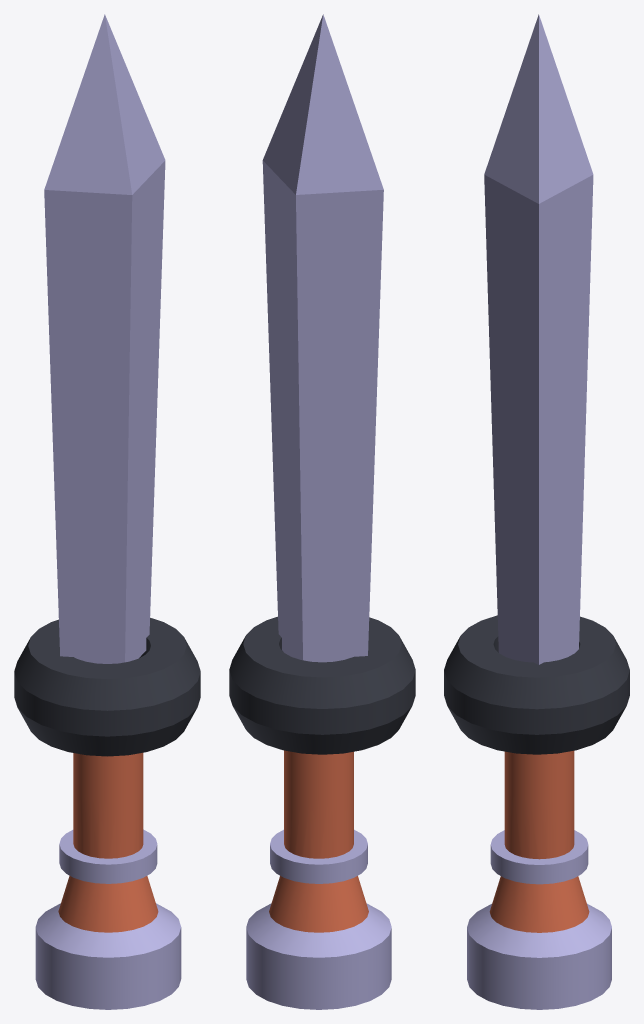
File: SwordFourteen.fbx
3 renders of one model, left to right at view 1: azimuth 30°, elevation 25°; view 2: azimuth 150°, elevation 25°; view 3: azimuth 270°, elevation 25°, orthographic.
Parts seen in each view (by area): view 1: mergedBlocks; view 2: mergedBlocks; view 3: mergedBlocks.
Boxes of the visible parts, x1=… form: mergedBlocks: x1=14, y1=14, x2=200, y2=1009; mergedBlocks: x1=229, y1=14, x2=415, y2=1009; mergedBlocks: x1=444, y1=14, x2=629, y2=1009.
Bounding box in the file's own units: 2.62 × 15 × 2.62.
